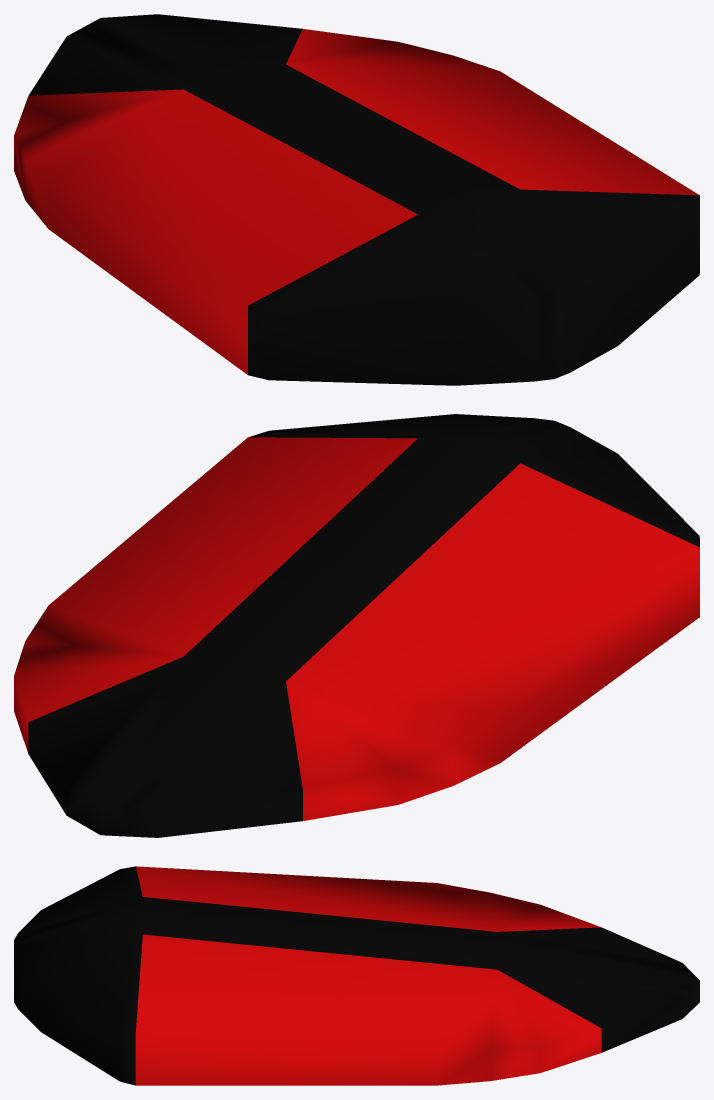
File: Body_Thumper.fbx
3 views of the same model, one above another, from view 1: azimuth 30°, elevation 25°; view 2: azimuth 150°, elevation 25°; view 3: azimuth 270°, elevation 25° (orthographic). The views are drawn at different scales.
Parts seen in each view (by area): view 1: Body_Thumper; view 2: Body_Thumper; view 3: Body_Thumper.
Part boxes in pixels (x1=…): Body_Thumper: x1=14, y1=14, x2=699, y2=385; Body_Thumper: x1=14, y1=414, x2=699, y2=837; Body_Thumper: x1=14, y1=866, x2=699, y2=1085.
Bounding box in the file's own units: 149 × 40.16 × 258.
